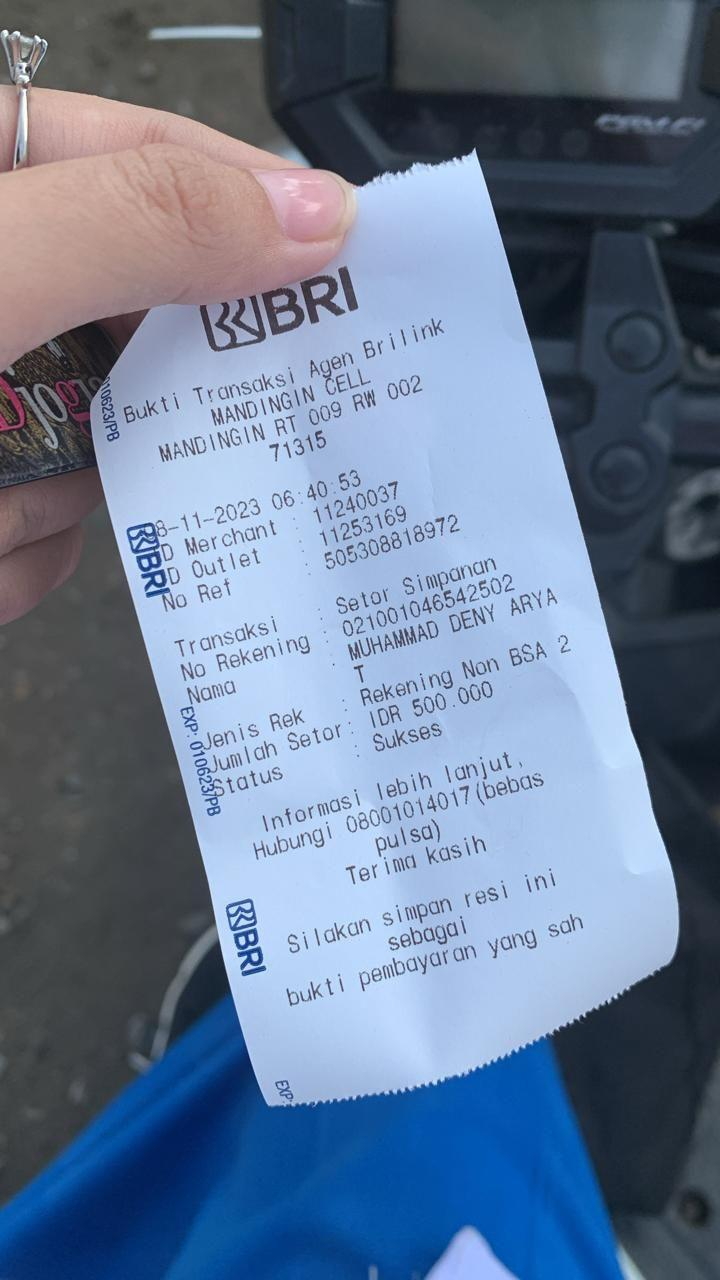receipt-in-hand: (93, 157, 676, 1109), (93, 155, 677, 1104), (97, 156, 676, 1110)
